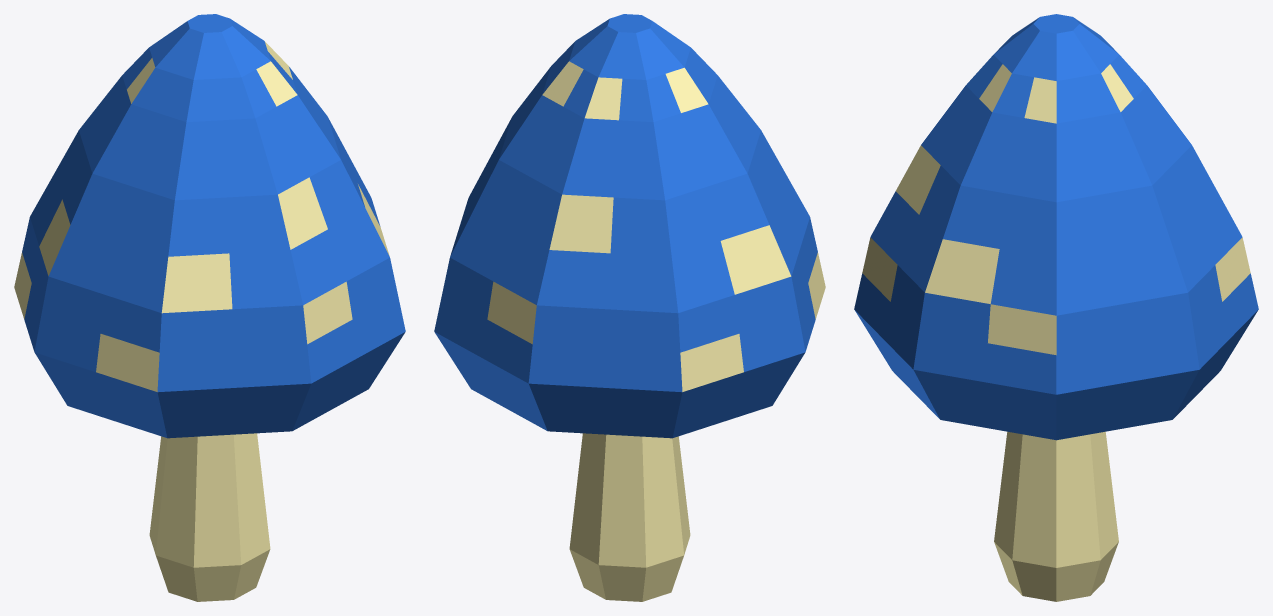
Rendered from Hongo Azul.fbx.
3 views of the same model, side by side, from view 1: azimuth 30°, elevation 25°; view 2: azimuth 150°, elevation 25°; view 3: azimuth 270°, elevation 25° (orthographic).
Visible parts, largest first — view 1: Cylinder.026; view 2: Cylinder.026; view 3: Cylinder.026.
Part boxes in pixels (left/top/right/bottom): Cylinder.026: left=14, top=14, right=405, bottom=601; Cylinder.026: left=434, top=14, right=825, bottom=601; Cylinder.026: left=854, top=14, right=1258, bottom=601.
Size of the model in its own units: 171 by 260 by 171.
